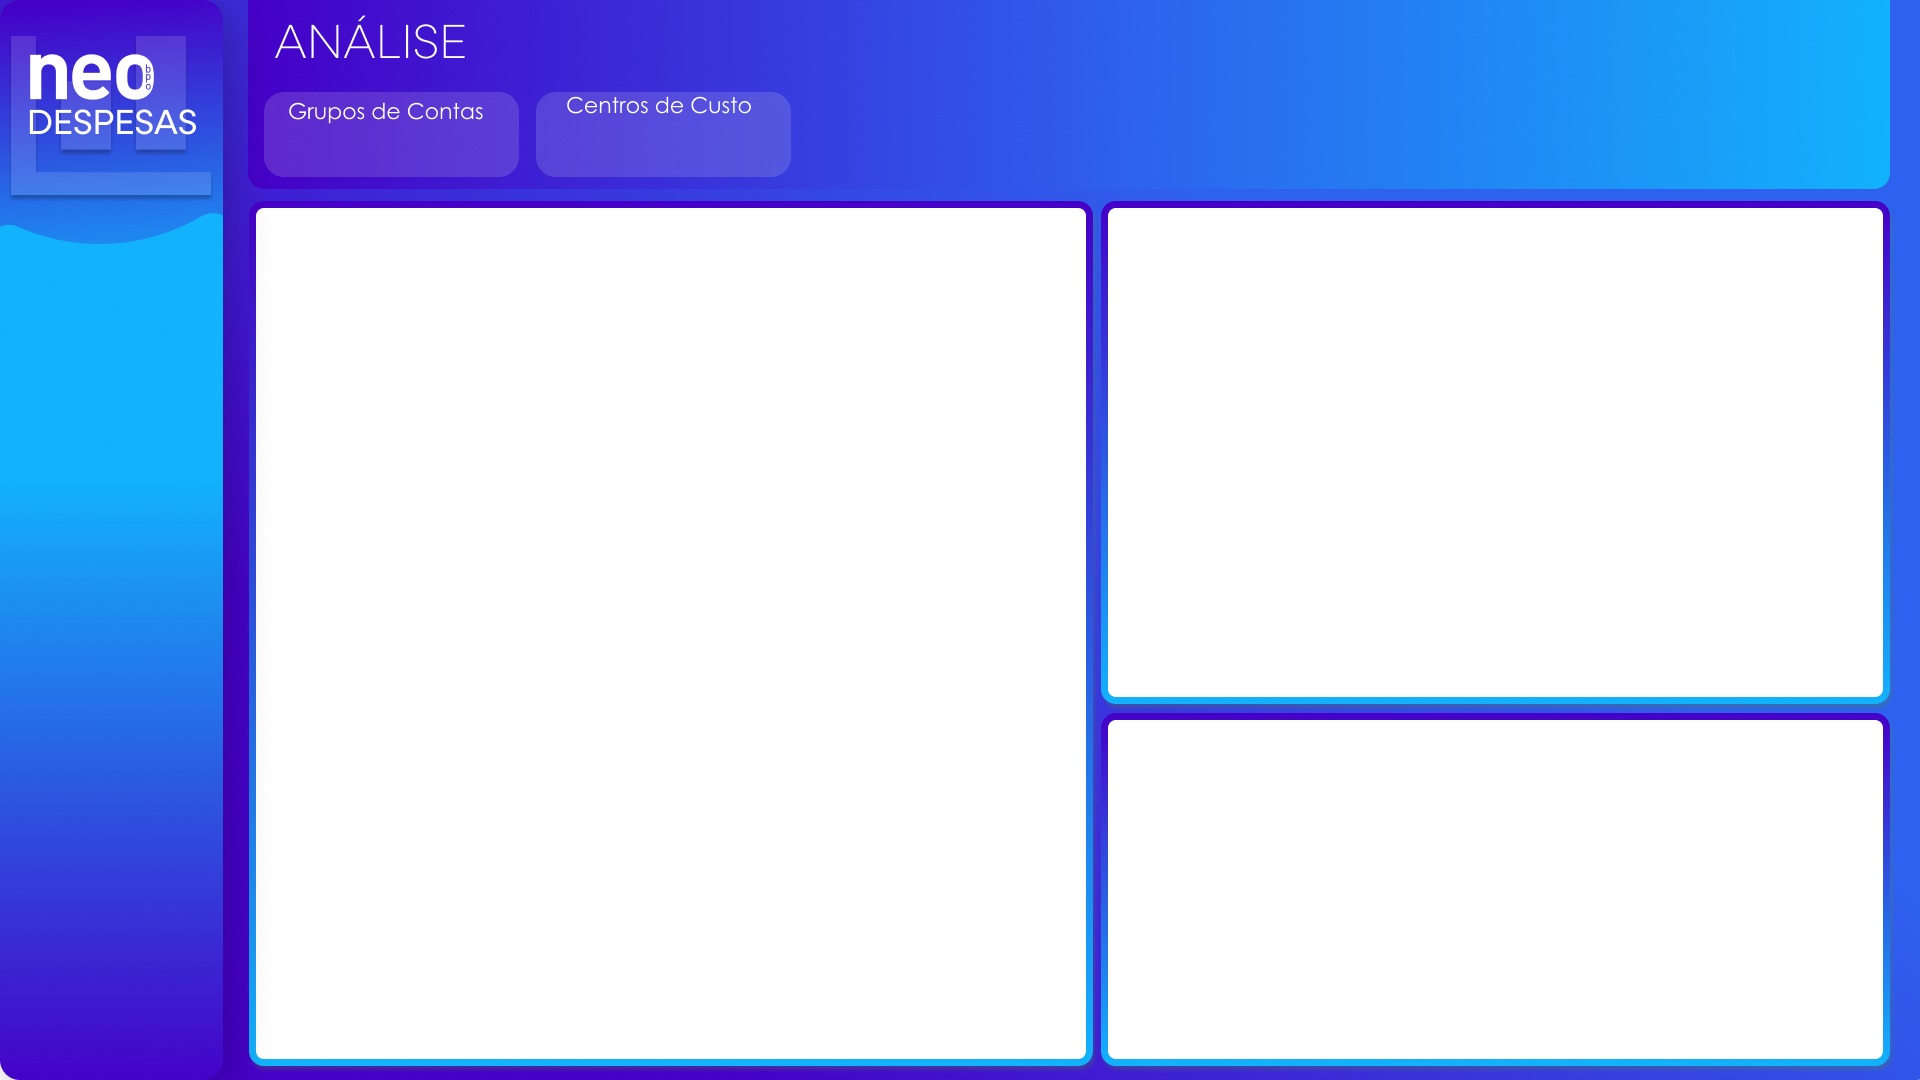

This screenshot's page, from the dashboard's own definition file:
{"tool":"powerbi","page":{"name":"ANÁLISE","canvas":[1280,720],"ordinal":1},"visuals":[{"type":"areaChart","title":"Desvio Orçado x Realizado","fields":{"Category":["dCalendario.Mes_Abreviado"],"Y":["MEDIDAS.Rotulo 2","MEDIDAS.Desvio %"]},"box":[740.7,138.9,511.4,324.8],"z":0},{"type":"slicer","title":"Mês","fields":{"Values":["dCalendario.Mes_Abreviado"]},"box":[1161,6.6,96.3,55.1],"z":1000},{"type":"slicer","title":"Ano","fields":{"Values":["dCalendario.Ano"]},"box":[1089,6.6,83,55.1],"z":2000},{"type":"slicer","title":"Centro de Custo","fields":{"Values":["dCENTRO_DE_CUSTO_MASTER.CC_NOME"]},"box":[1117.6,63.9,139.8,55.2],"z":3000},{"type":"slicer","title":"Grupo de Contas","fields":{"Values":["dCONTAS.GRUPO"]},"box":[906.7,63.9,216.8,55.1],"z":4000},{"type":"card","fields":{"Values":["MEDIDAS.Qtd. Contas"]},"box":[171.9,72.7,177.1,47.8],"z":5000},{"type":"card","fields":{"Values":["MEDIDAS.Qtd. CC"]},"box":[354.2,72.7,177.1,47.8],"z":6000},{"type":"columnChart","title":"Valor Orçado por Centro de Custo","fields":{"Category":["dCENTRO_DE_CUSTO_MASTER.CC_NOME"],"Y":["MEDIDAS.Desvio %"]},"box":[171.9,138.9,547.4,562.1],"z":7000},{"type":"pivotTable","title":"Desvio | Orçado |  Realizado por Conta Individual","fields":{"Rows":["dCONTAS.CONTA"],"Values":["MEDIDAS.Desvio %","MEDIDAS.Vlr. Orçado","MEDIDAS.Vlr. Realizado"]},"box":[740.7,482,511.4,224.8],"z":8000},{"type":"card","fields":{"Values":["MEDIDAS.Atualização"]},"box":[0,562.1,158.7,144.8],"z":9000},{"type":"pageNavigator","box":[0,185.9,149.2,213.1],"z":10000}]}

Visuals, with their boxes in screenshot pixels (x1, y1, x2, y2), scaled from the page's 1280x720 canvas onto the 1920x1080 screenshot:
"Desvio Orçado x Realizado" areaChart: [1111,208,1878,696]
"Mês" slicer: [1742,10,1886,93]
"Ano" slicer: [1634,10,1758,93]
"Centro de Custo" slicer: [1676,96,1886,179]
"Grupo de Contas" slicer: [1360,96,1685,178]
card - MEDIDAS.Qtd. Contas: [258,109,524,181]
card - MEDIDAS.Qtd. CC: [531,109,797,181]
"Valor Orçado por Centro de Custo" columnChart: [258,208,1079,1052]
"Desvio | Orçado |  Realizado por Conta Individual" pivotTable: [1111,723,1878,1060]
card - MEDIDAS.Atualização: [0,843,238,1060]
pageNavigator: [0,279,224,598]
